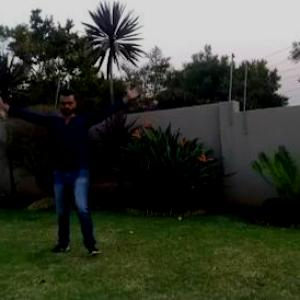takeoff: (1, 84, 146, 253)
